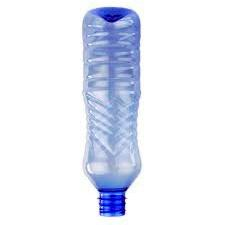Plastic: (82, 7, 141, 217)
